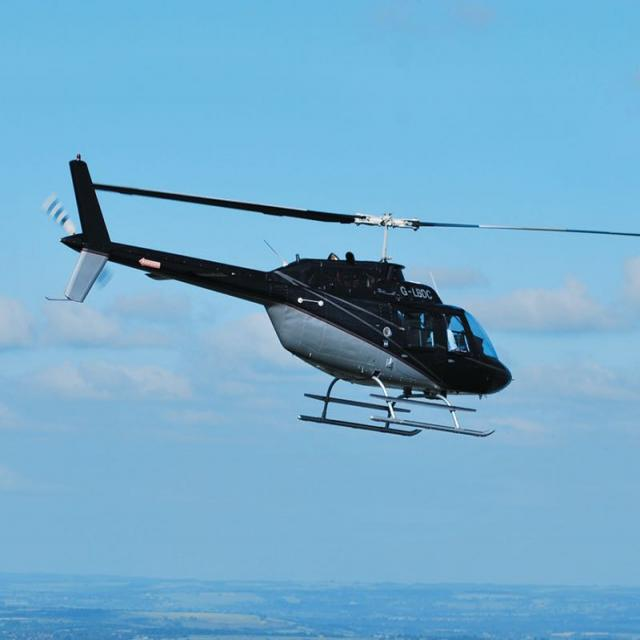helicopter: (44, 157, 637, 454)
